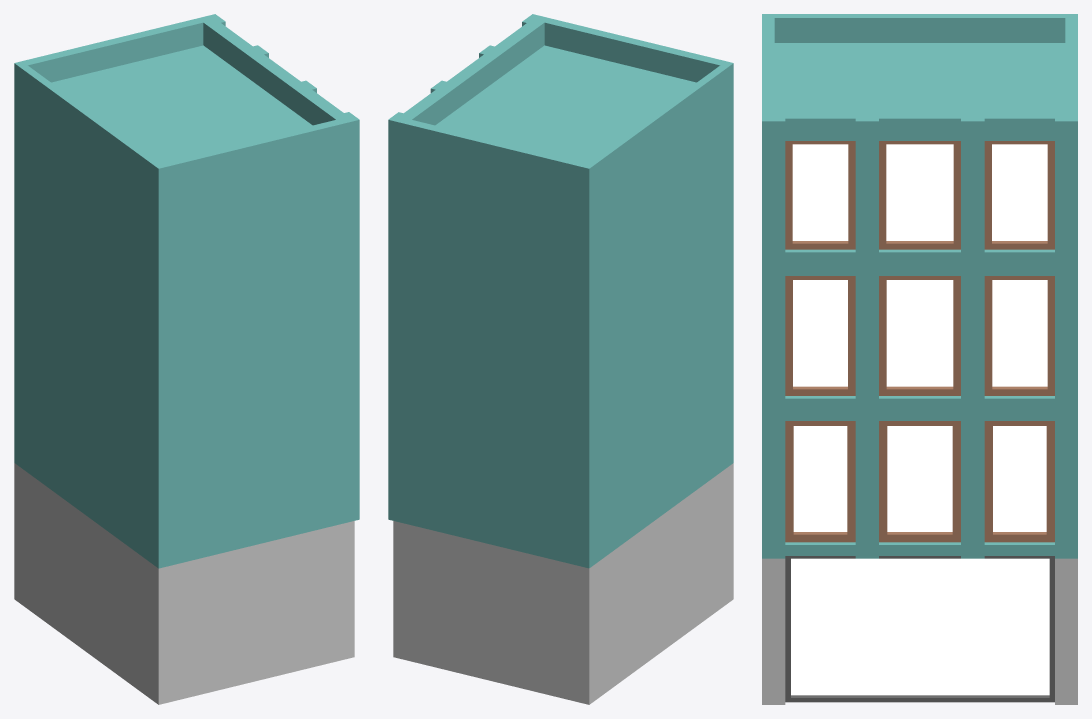
The model's file is House 2.2.fbx.
3 renders of one model, left to right at view 1: azimuth 30°, elevation 25°; view 2: azimuth 150°, elevation 25°; view 3: azimuth 270°, elevation 25°, orthographic. The views are drawn at different scales.
Parts seen in each view (by area): view 1: House 2.002; view 2: House 2.002; view 3: House 2.002.
Boxes of the visible parts, x1,y1,x2,y2 form: House 2.002: (14, 14, 359, 704); House 2.002: (388, 14, 733, 704); House 2.002: (762, 14, 1077, 704).
Size of the model in its own units: 804 by 2049 by 1001.
